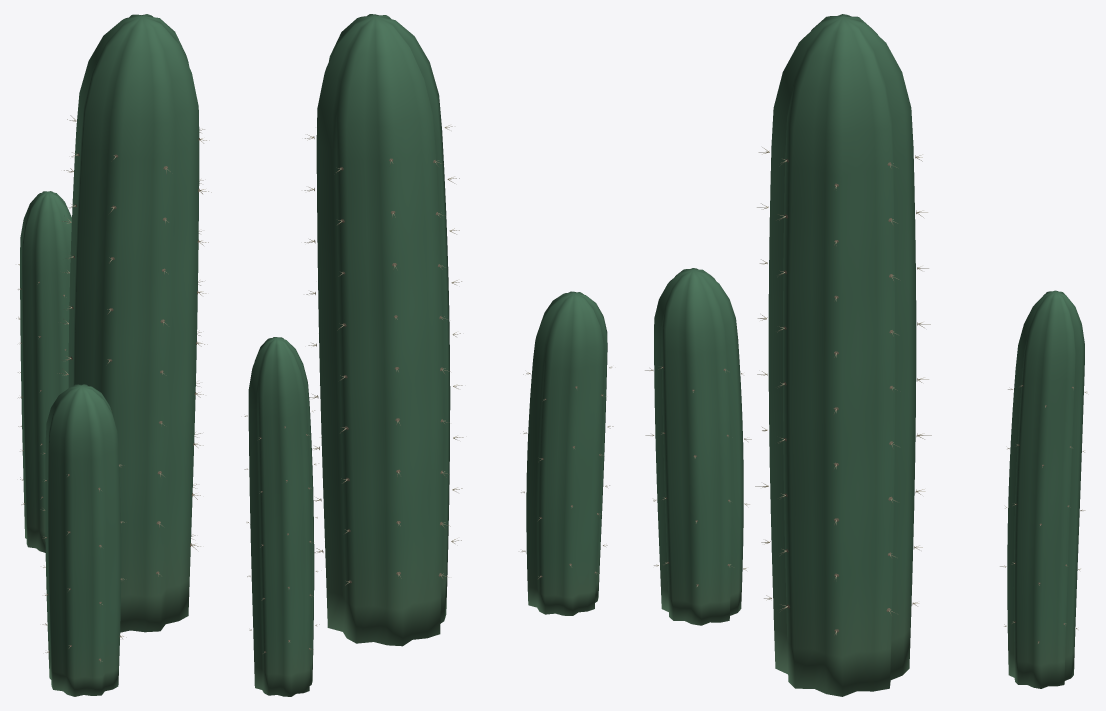
File: cactuscolumn.glb
3 views of the same model, side by side, from view 1: azimuth 30°, elevation 25°; view 2: azimuth 150°, elevation 25°; view 3: azimuth 270°, elevation 25° (orthographic). The views are drawn at different scales.
Parts seen in each view (by area): view 1: CactusBodies, CactusAreoles; view 2: CactusBodies, CactusAreoles; view 3: CactusBodies, CactusAreoles.
Part boxes in pixels (x1,y1,x2,y2): CactusBodies: (20, 14, 199, 696); CactusAreoles: (16, 115, 211, 661); CactusBodies: (248, 14, 607, 696); CactusAreoles: (244, 125, 613, 653); CactusBodies: (654, 14, 1084, 696); CactusAreoles: (645, 147, 1087, 644).
Bounding box in the file's own units: 0.3229 × 0.8 × 0.4929.
